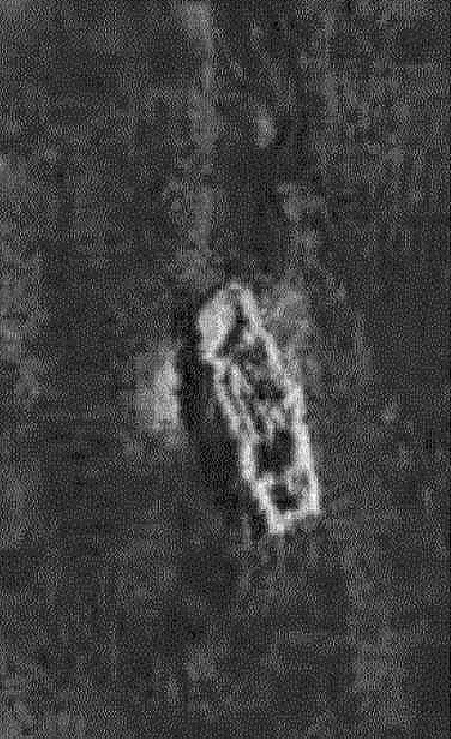ship: (193, 281, 331, 539)
